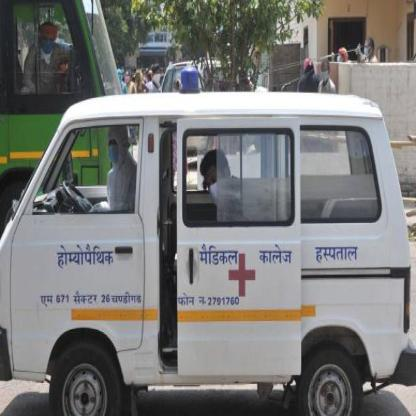priority: (0, 68, 416, 416)
